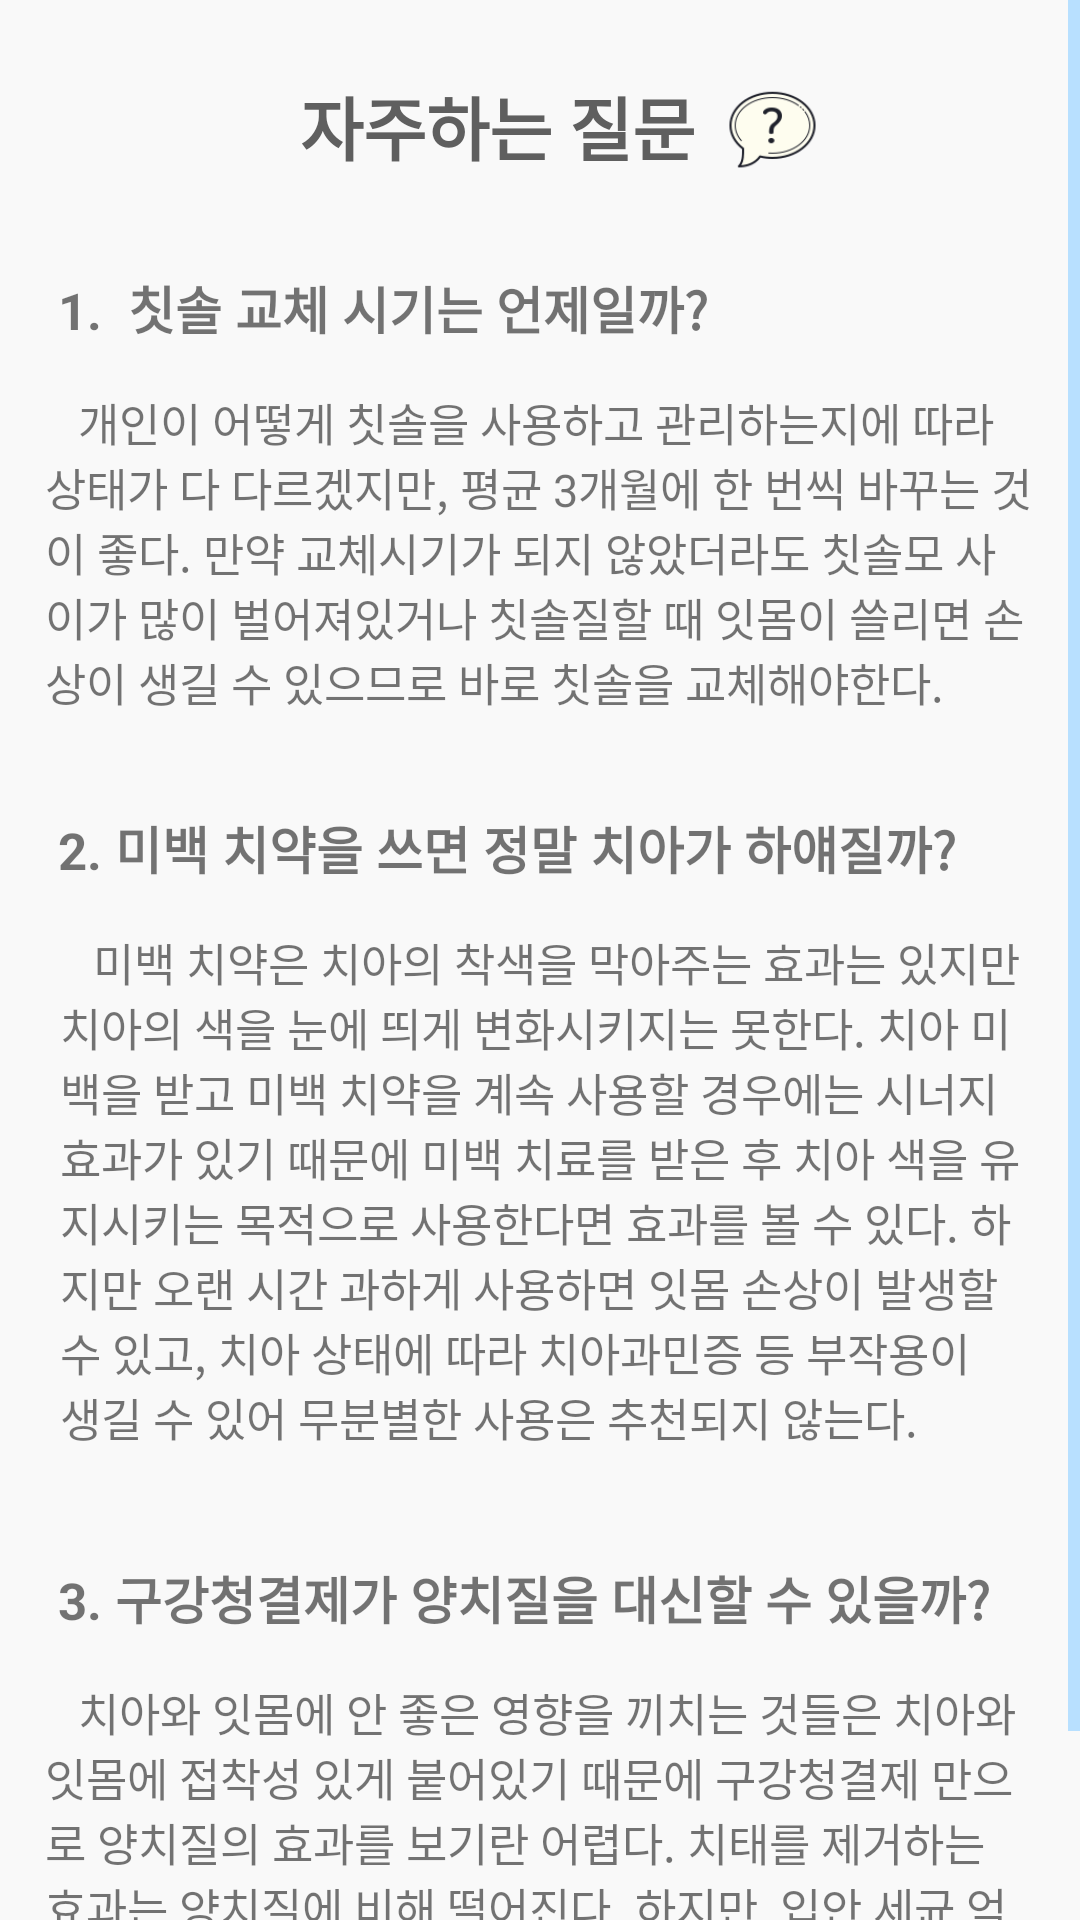

Icons on this 1080px x 1920px Android screen, each with its box as (x1, y1, x2, y2):
ques: (729, 91, 816, 168)
